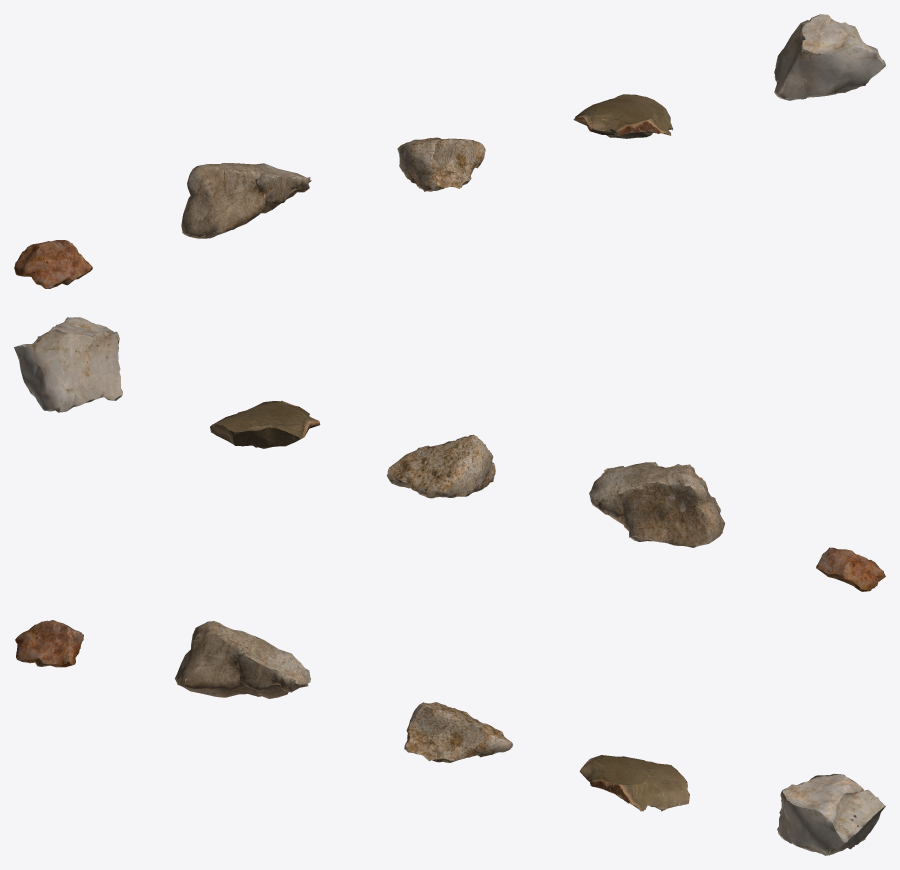
Rendered from namaqualand_stones_01.glb.
3 views of the same model, one above another, from view 1: azimuth 30°, elevation 25°; view 2: azimuth 150°, elevation 25°; view 3: azimuth 330°, elevation 25° (orthographic).
Parts seen in each view (by area): view 1: model; view 2: model; view 3: model.
Boxes of the visible parts, x1,y1,x2,y2 form: model: [14, 14, 885, 288]; model: [14, 317, 885, 591]; model: [15, 620, 885, 855].
Size of the model in its own units: 1.02 by 0.0847 by 0.1126.
1 material, 1 textured.
